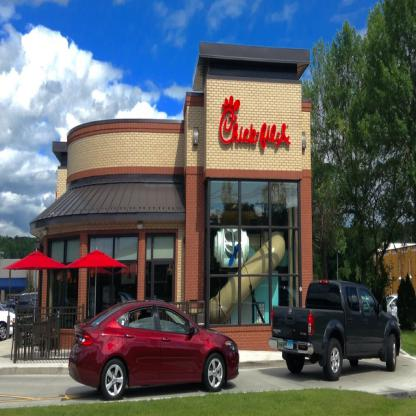Car: (66, 295, 241, 401), (0, 296, 16, 339), (385, 293, 401, 321), (348, 286, 370, 305)
Truck: (270, 275, 405, 380)
